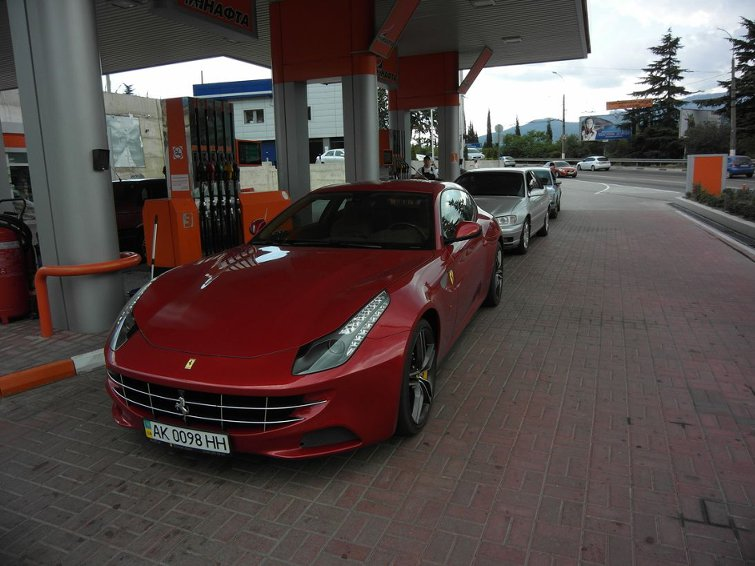car: (104, 179, 506, 464)
plate: (141, 417, 229, 454)
